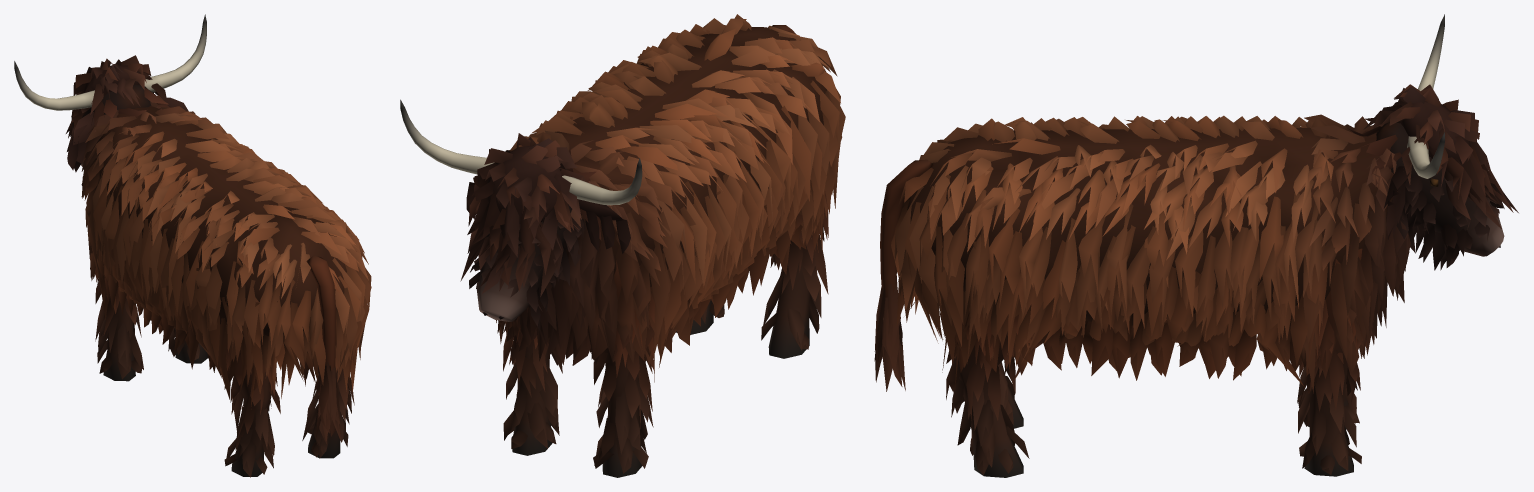
The model's file is highland-bull.glb.
3 views of the same model, side by side, from view 1: azimuth 30°, elevation 25°; view 2: azimuth 150°, elevation 25°; view 3: azimuth 270°, elevation 25° (orthographic). The views are drawn at different scales.
Parts seen in each view (by area): view 1: torso, head_mesh, leg_rl_mesh, leg_fl_mesh, tail_mesh, leg_rr_mesh, leg_fr_mesh; view 2: torso, head_mesh, leg_fl_mesh, leg_rl_mesh, leg_fr_mesh, leg_rr_mesh; view 3: torso, head_mesh, leg_rr_mesh, leg_fr_mesh, tail_mesh, leg_rl_mesh.
Part boxes in pixels (x1=…): torso: x1=81, y1=95, x2=371, y2=409; head_mesh: x1=14, y1=14, x2=206, y2=185; leg_rl_mesh: x1=224, y1=343, x2=280, y2=477; leg_fl_mesh: x1=90, y1=264, x2=143, y2=381; tail_mesh: x1=306, y1=255, x2=341, y2=443; leg_rr_mesh: x1=302, y1=349, x2=356, y2=458; leg_fr_mesh: x1=168, y1=327, x2=207, y2=363; torso: x1=496, y1=14, x2=845, y2=382; head_mesh: x1=400, y1=99, x2=642, y2=331; leg_fl_mesh: x1=591, y1=260, x2=655, y2=477; leg_rl_mesh: x1=761, y1=191, x2=828, y2=358; leg_fr_mesh: x1=497, y1=320, x2=562, y2=455; leg_rr_mesh: x1=676, y1=299, x2=724, y2=334; torso: x1=891, y1=114, x2=1410, y2=393; head_mesh: x1=1347, y1=14, x2=1518, y2=270; leg_rr_mesh: x1=946, y1=312, x2=1042, y2=477; leg_fr_mesh: x1=1292, y1=248, x2=1366, y2=476; tail_mesh: x1=874, y1=159, x2=933, y2=391; leg_rl_mesh: x1=952, y1=357, x2=1023, y2=428.
Bounding box in the file's own units: 0.9057 × 1.33 × 2.08.
